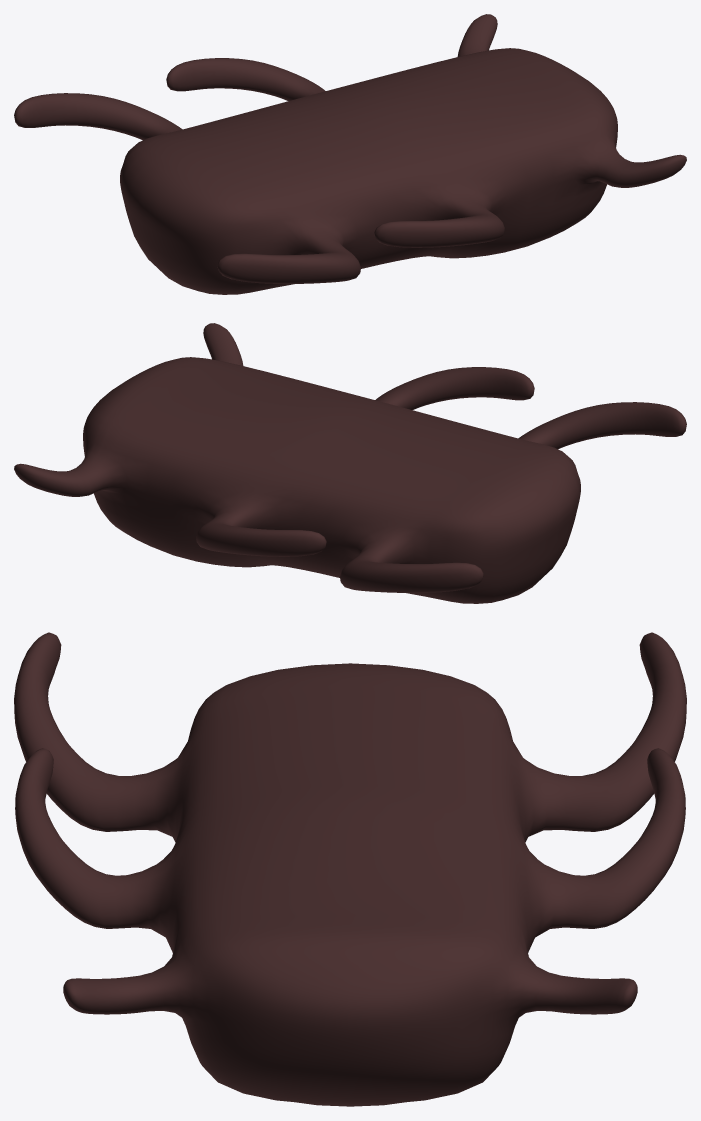
The model's file is cockroachsmooth.fbx.
3 renders of one model, top to bottom at view 1: azimuth 30°, elevation 25°; view 2: azimuth 150°, elevation 25°; view 3: azimuth 270°, elevation 25°, orthographic. The views are drawn at different scales.
Visible parts, largest first — view 1: pCube3; view 2: pCube3; view 3: pCube3.
Part boxes in pixels (box(x1,y1,x2,y2)): pCube3: box(14, 14, 686, 294); pCube3: box(14, 323, 686, 603); pCube3: box(14, 632, 686, 1106).
Size of the model in its own units: 2.35 by 0.7074 by 1.94.
